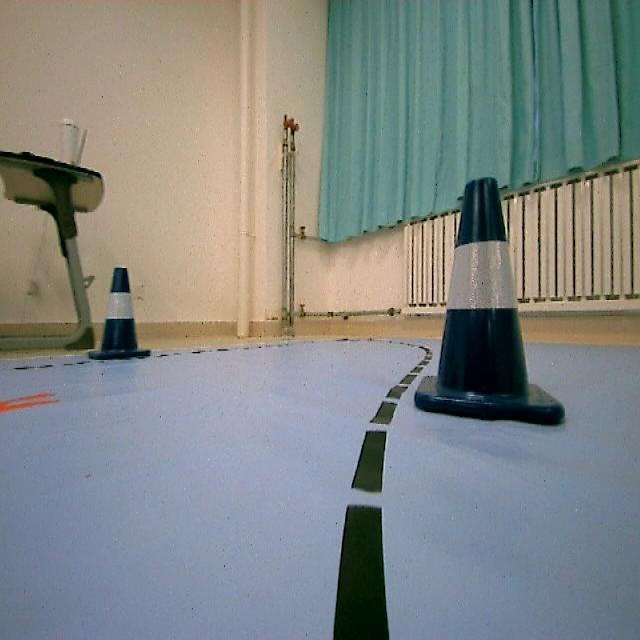obstacle: (429, 175, 570, 433), (88, 265, 156, 365)
